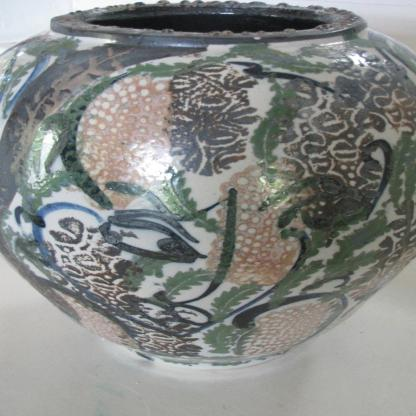vase: (0, 0, 415, 375)
